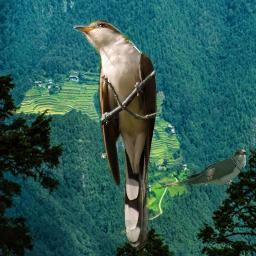Cuckoo: (73, 20, 159, 249), (152, 148, 246, 191)
